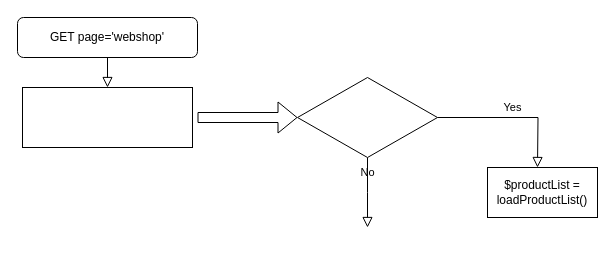
The diagram is 615 pixels wide and 255 high, and some of its shapes have lost their labels. Each missing label, with the box of its shape:
empty($productList): (296, 76, 438, 158)
processRequest('webshop'): (22, 86, 192, 148)
